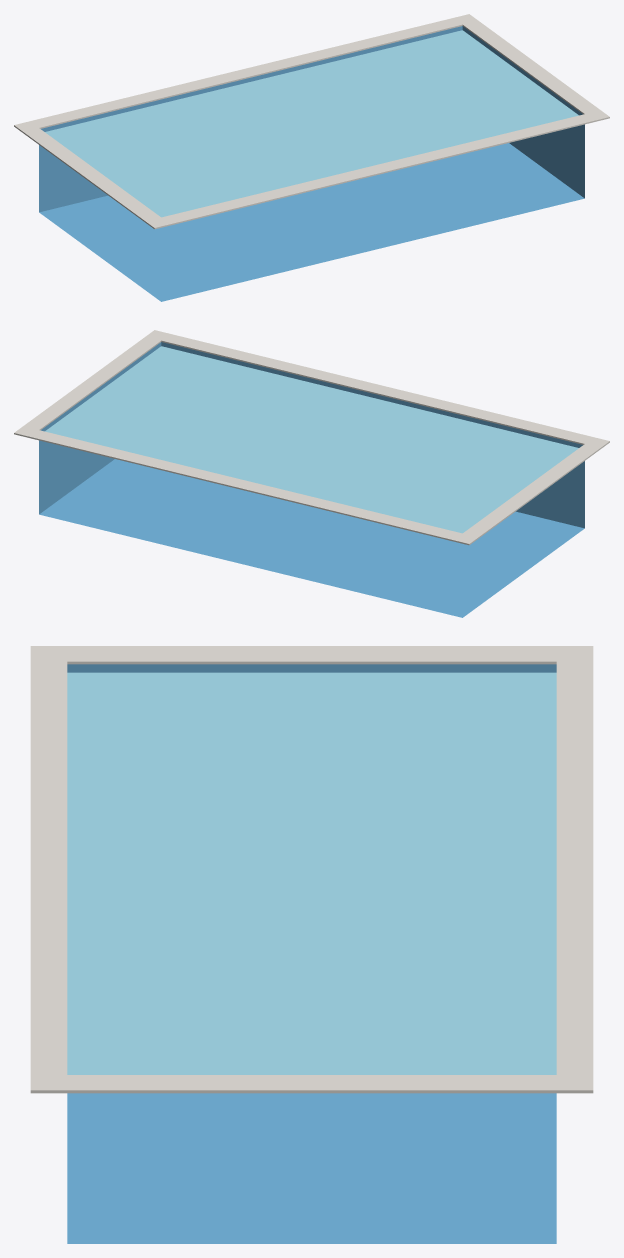
The model's file is pool.glb.
The picture shows the model from 3 angles, top to bottom: view 1: azimuth 30°, elevation 25°; view 2: azimuth 150°, elevation 25°; view 3: azimuth 270°, elevation 25°; orthographic projection. The views are drawn at different scales.
Visible parts, largest first — view 1: pool_water, pool_tile, pool_coping; view 2: pool_water, pool_tile, pool_coping; view 3: pool_water, pool_tile, pool_coping.
Part boxes in pixels (x1=…): pool_water: x1=45, y1=30, x2=578, y2=217; pool_tile: x1=39, y1=26, x2=584, y2=301; pool_coping: x1=14, y1=14, x2=609, y2=229; pool_water: x1=45, y1=346, x2=578, y2=533; pool_tile: x1=39, y1=342, x2=584, y2=617; pool_coping: x1=14, y1=330, x2=609, y2=545; pool_water: x1=67, y1=672, x2=556, y2=1074; pool_tile: x1=67, y1=664, x2=556, y2=1243; pool_coping: x1=30, y1=646, x2=593, y2=1093.
Bounding box in the file's own units: 8.6 × 1.53 × 4.6.
